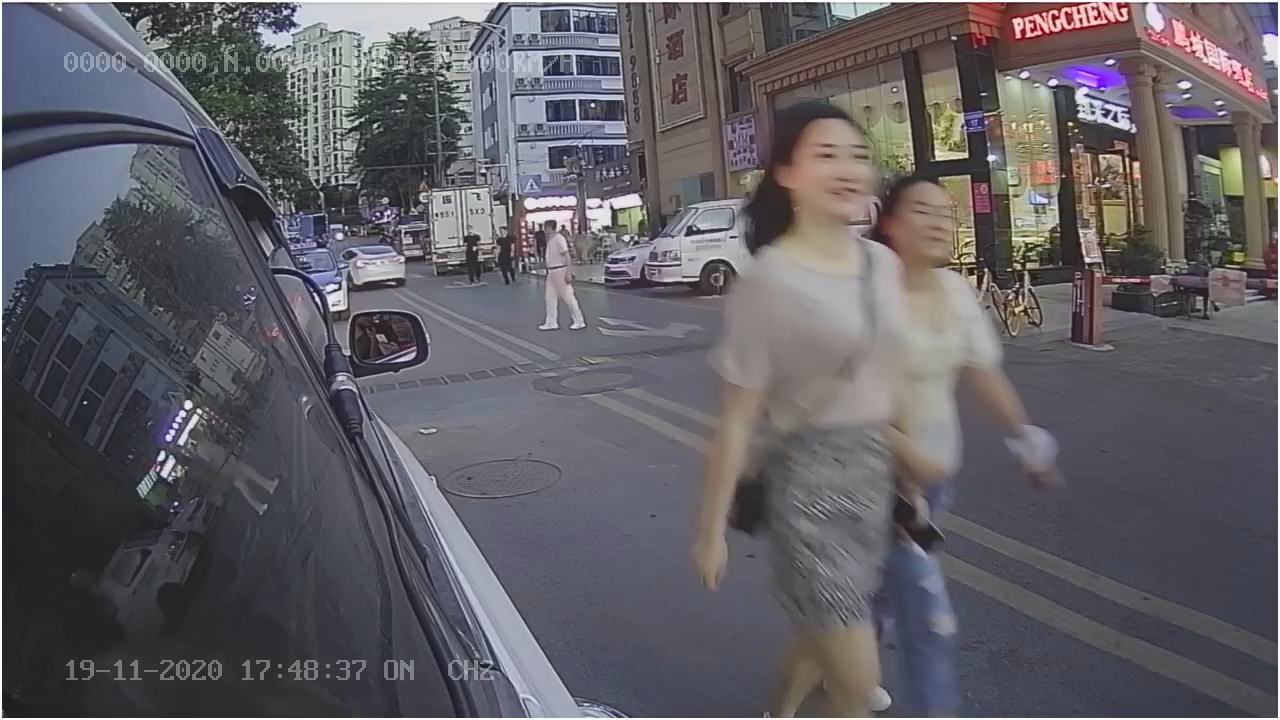person: (723, 101, 989, 665)
